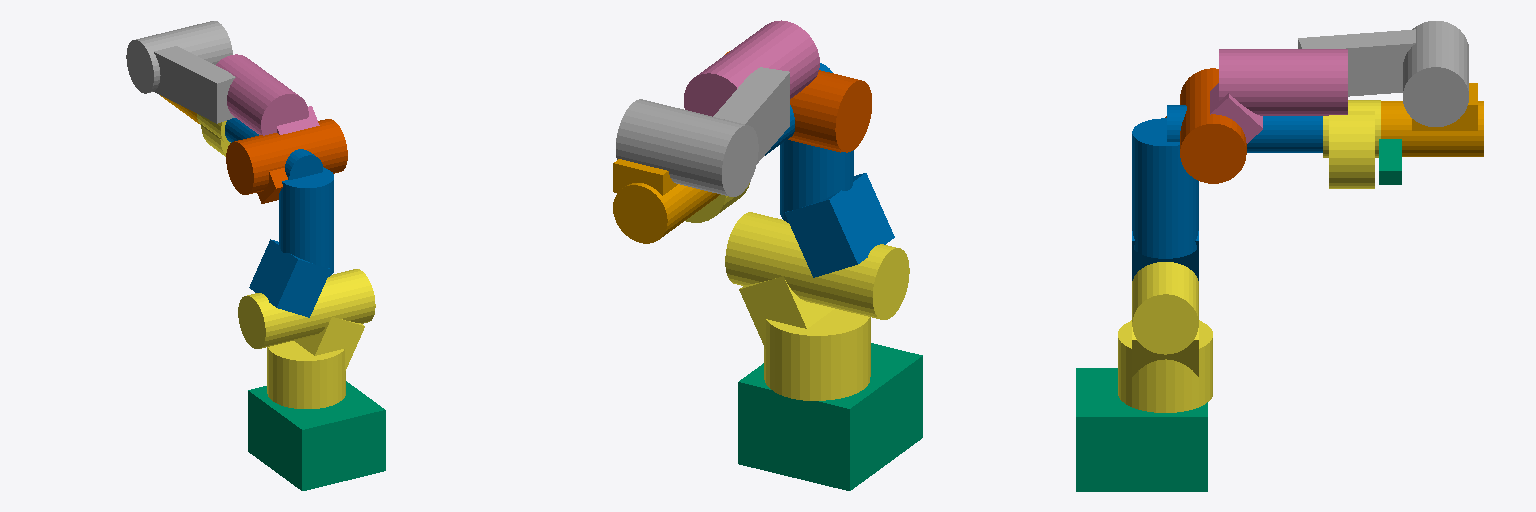
URDF robot description (franka):
<?xml version="1.0" encoding="utf-8"?>
<!-- =================================================================================== -->
<!-- |    This document was autogenerated by xacro from config/franka_only_collision_checking.urdf.xacro | -->
<!-- |    EDITING THIS FILE BY HAND IS NOT RECOMMENDED                                 | -->
<!-- =================================================================================== -->
<robot name="franka">
  <link name="base_link"/>
  <link name="base_aa"/>
  <joint name="base_aa_joint" type="fixed">
    <parent link="base_link"/>
    <child link="base_aa"/>
    <origin rpy="0 0 0" xyz="0.01905 -0.04134 0.0"/>
  </joint>
  <joint name="franka_joint_base_aa" type="fixed">
    <parent link="base_aa"/>
    <child link="franka_link0"/>
    <origin rpy="0 0 1.5708" xyz="0 0 0"/>
  </joint>
  <link name="franka_link0">
    <!-- <visual>
        <geometry>
          <mesh filename="meshes/collision/link0.obj"/>
        </geometry>
      </visual> -->
    <visual>
      <origin rpy="0 0 0" xyz="-0.041 0 0.0705"/>
      <geometry>
        <box size="0.227 0.2 0.141"/>
      </geometry>
    </visual>
  </link>
  <link name="franka_link1">
    <!-- <collision>
        <geometry>
          <mesh filename="meshes/collision/link1.obj"/>
        </geometry>
      </collision> -->
    <!-- <visual>
        <geometry>
          <mesh filename="meshes/collision/link1.obj"/>
        </geometry>
      </visual> -->
    <collision>
      <origin rpy="0 0 0" xyz="0 0 -0.137"/>
      <geometry>
        <!-- <cylinder length="0.112" radius="0.0575" /> -->
        <!-- no clamp on robot -->
        <cylinder length="0.112" radius="0.0825"/>
        <!-- clamp on robot -->
      </geometry>
    </collision>
    <visual>
      <origin rpy="0 0 0" xyz="0 0 -0.137"/>
      <geometry>
        <!-- <cylinder length="0.112" radius="0.0575" /> -->
        <!-- no clamp on robot -->
        <cylinder length="0.112" radius="0.0825"/>
        <!-- clamp on robot -->
      </geometry>
    </visual>
    <collision>
      <origin rpy="0.4799655 0 0" xyz="0 -0.0416 -0.0707"/>
      <geometry>
        <box size="0.115 0.09 0.112"/>
      </geometry>
    </collision>
    <visual>
      <origin rpy="0.4799655 0 0" xyz="0 -0.0416 -0.0707"/>
      <geometry>
        <box size="0.115 0.09 0.112"/>
      </geometry>
    </visual>
    <collision>
      <origin rpy="1.5708 0 0" xyz="0 0 0"/>
      <geometry>
        <cylinder length="0.264" radius="0.0575"/>
      </geometry>
    </collision>
    <visual>
      <origin rpy="1.5708 0 0" xyz="0 0 0"/>
      <geometry>
        <cylinder length="0.264" radius="0.0575"/>
      </geometry>
    </visual>
  </link>
  <joint name="franka_joint1" type="revolute">
    <safety_controller k_position="100.0" k_velocity="40.0" soft_lower_limit="-2.8973" soft_upper_limit="0.6"/>
    <origin rpy="0 0 0" xyz="0 0 0.333"/>
    <parent link="franka_link0"/>
    <child link="franka_link1"/>
    <axis xyz="0 0 1"/>
    <limit effort="87" lower="-2.8973" upper="2.8973" velocity="2.1750"/>
  </joint>
  <link name="franka_link2">
    <!-- <collision>
        <geometry>
          <cylinder radius="0.09" length="0.25"/>
           <mesh filename="meshes/collision/link2.obj"/> 
        </geometry>
      </collision> -->
    <!-- <visual>
        <geometry>
          <cylinder radius="0.09" length="0.25"/>
           <mesh filename="meshes/collision/link2.obj"/> 
        </geometry>
      </visual> -->
    <collision>
      <origin rpy="-1.090831 0 0" xyz="0 -0.0795 0.0401"/>
      <geometry>
        <box size="0.115 0.09 0.112"/>
      </geometry>
    </collision>
    <visual>
      <origin rpy="-1.090831 0 0" xyz="0 -0.0795 0.0401"/>
      <geometry>
        <box size="0.115 0.09 0.112"/>
      </geometry>
    </visual>
    <collision>
      <origin rpy="1.5708 0 0" xyz="0 -0.197 0"/>
      <geometry>
        <cylinder length="0.214" radius="0.0575"/>
      </geometry>
    </collision>
    <visual>
      <origin rpy="1.5708 0 0" xyz="0 -0.197 0"/>
      <geometry>
        <cylinder length="0.214" radius="0.0575"/>
      </geometry>
    </visual>
  </link>
  <joint name="franka_joint2" type="revolute">
    <safety_controller k_position="100.0" k_velocity="40.0" soft_lower_limit="-1.7628" soft_upper_limit="0.6"/>
    <origin rpy="-1.57079632679 0 0" xyz="0 0 0"/>
    <parent link="franka_link1"/>
    <child link="franka_link2"/>
    <axis xyz="0 0 1"/>
    <limit effort="87" lower="-1.7628" upper="1.7628" velocity="2.1750"/>
  </joint>
  <link name="franka_link3">
    <!-- <collision>
        <geometry>
          <mesh filename="meshes/collision/link3.obj"/>
        </geometry>
      </collision> -->
    <!-- <visual>
        <geometry>
          <mesh filename="meshes/collision/link3.obj"/>
        </geometry>
      </visual> -->
    <collision>
      <origin rpy="0 0.785 0" xyz="0.045 0.028 -0.0333"/>
      <geometry>
        <box size="0.085 0.095 0.05"/>
      </geometry>
    </collision>
    <visual>
      <origin rpy="0 0.785 0" xyz="0.045 0.028 -0.0333"/>
      <geometry>
        <box size="0.085 0.095 0.05"/>
      </geometry>
    </visual>
    <collision>
      <origin rpy="1.5708 0 0" xyz="0.0825 0 0"/>
      <geometry>
        <cylinder length="0.226" radius="0.0575"/>
      </geometry>
    </collision>
    <visual>
      <origin rpy="1.5708 0 0" xyz="0.0825 0 0"/>
      <geometry>
        <cylinder length="0.226" radius="0.0575"/>
      </geometry>
    </visual>
  </link>
  <joint name="franka_joint3" type="revolute">
    <safety_controller k_position="100.0" k_velocity="40.0" soft_lower_limit="-2.8973" soft_upper_limit="2.8973"/>
    <origin rpy="1.57079632679 0 0" xyz="0 -0.316 0"/>
    <parent link="franka_link2"/>
    <child link="franka_link3"/>
    <axis xyz="0 0 1"/>
    <limit effort="87" lower="-2.8973" upper="2.8973" velocity="2.1750"/>
  </joint>
  <link name="franka_link4">
    <!-- <collision>
        <geometry>
          <mesh filename="meshes/collision/link4.obj"/>
        </geometry>
      </collision> -->
    <!-- <visual>
        <geometry>
          <mesh filename="meshes/collision/link4.obj"/>
        </geometry>
      </visual> -->
    <collision>
      <origin rpy="0 0 0.785" xyz="-0.0417 0.0388 0.0275"/>
      <geometry>
        <box size="0.085 0.05 0.095"/>
      </geometry>
    </collision>
    <visual>
      <origin rpy="0 0 0.785" xyz="-0.0417 0.0388 0.0275"/>
      <geometry>
        <box size="0.085 0.05 0.095"/>
      </geometry>
    </visual>
    <collision>
      <origin rpy="1.5708 0 0" xyz="-0.0825 0.121 0"/>
      <geometry>
        <cylinder length="0.224" radius="0.0575"/>
      </geometry>
    </collision>
    <visual>
      <origin rpy="1.5708 0 0" xyz="-0.0825 0.121 0"/>
      <geometry>
        <cylinder length="0.224" radius="0.0575"/>
      </geometry>
    </visual>
  </link>
  <joint name="franka_joint4" type="revolute">
    <safety_controller k_position="100.0" k_velocity="40.0" soft_lower_limit="-3.0718" soft_upper_limit="-0.0698"/>
    <origin rpy="1.57079632679 0 0" xyz="0.0825 0 0"/>
    <parent link="franka_link3"/>
    <child link="franka_link4"/>
    <axis xyz="0 0 1"/>
    <limit effort="87" lower="-3.0718" upper="-0.0698" velocity="2.1750"/>
  </joint>
  <link name="franka_link5">
    <!-- <collision>
        <geometry>
          <mesh filename="meshes/collision/link5.obj"/>
        </geometry>
      </collision> -->
    <!-- <visual>
        <geometry>
          <mesh filename="meshes/collision/link5.obj"/>
        </geometry>
      </visual> -->
    <collision>
      <origin rpy="-0.174533 0 0" xyz="0 0.075 -0.125"/>
      <geometry>
        <box size="0.092 0.056 0.22"/>
      </geometry>
    </collision>
    <visual>
      <origin rpy="-0.174533 0 0" xyz="0 0.075 -0.125"/>
      <geometry>
        <box size="0.092 0.056 0.22"/>
      </geometry>
    </visual>
    <collision>
      <origin rpy="1.5708 0 0" xyz="0 0.036 0"/>
      <geometry>
        <cylinder length="0.19" radius="0.0575"/>
      </geometry>
    </collision>
    <visual>
      <origin rpy="1.5708 0 0" xyz="0 0.036 0"/>
      <geometry>
        <cylinder length="0.19" radius="0.0575"/>
      </geometry>
    </visual>
  </link>
  <joint name="franka_joint5" type="revolute">
    <safety_controller k_position="100.0" k_velocity="40.0" soft_lower_limit="-2.8973" soft_upper_limit="2.8973"/>
    <origin rpy="-1.57079632679 0 0" xyz="-0.0825 0.384 0"/>
    <parent link="franka_link4"/>
    <child link="franka_link5"/>
    <axis xyz="0 0 1"/>
    <limit effort="12" lower="-2.8973" upper="2.8973" velocity="2.6100"/>
  </joint>
  <link name="franka_link6">
    <!-- <collision>
        <geometry>
          <mesh filename="meshes/collision/link6.obj"/>
        </geometry>
      </collision> -->
    <!-- <visual>
        <geometry>
          <mesh filename="meshes/collision/link6.obj"/>
        </geometry>
      </visual> -->
    <collision>
      <origin rpy="1.5708 0 0" xyz="0.088 -0.012 0"/>
      <geometry>
        <cylinder length="0.19" radius="0.049"/>
      </geometry>
    </collision>
    <visual>
      <origin rpy="1.5708 0 0" xyz="0.088 -0.012 0"/>
      <geometry>
        <cylinder length="0.19" radius="0.049"/>
      </geometry>
    </visual>
    <collision>
      <origin rpy="0 0 0" xyz="0.042 0.0154 0.01"/>
      <geometry>
        <box size="0.05 0.115 0.088"/>
      </geometry>
    </collision>
    <visual>
      <origin rpy="0 0 0" xyz="0.042 0.0154 0.01"/>
      <geometry>
        <box size="0.05 0.115 0.088"/>
      </geometry>
    </visual>
  </link>
  <joint name="franka_joint6" type="revolute">
    <safety_controller k_position="100.0" k_velocity="40.0" soft_lower_limit="-0.0175" soft_upper_limit="3.7525"/>
    <origin rpy="1.57079632679 0 0" xyz="0 0 0"/>
    <parent link="franka_link5"/>
    <child link="franka_link6"/>
    <axis xyz="0 0 1"/>
    <limit effort="12" lower="-0.0175" upper="3.7525" velocity="2.6100"/>
  </joint>
  <link name="franka_link7">
    <!-- <collision>
        <geometry>
          <mesh filename="meshes/collision/link7.obj"/>
        </geometry>
      </collision> -->
    <!-- <visual>
        <geometry>
          <mesh filename="meshes/collision/link7.obj"/>
        </geometry>
      </visual> -->
  </link>
  <joint name="franka_joint7" type="revolute">
    <safety_controller k_position="100.0" k_velocity="40.0" soft_lower_limit="-2.8973" soft_upper_limit="2.8973"/>
    <origin rpy="1.57079632679 0 0" xyz="0.088 0 0"/>
    <parent link="franka_link6"/>
    <child link="franka_link7"/>
    <axis xyz="0 0 1"/>
    <limit effort="12" lower="-2.8973" upper="2.8973" velocity="2.6100"/>
  </joint>
  <link name="franka_link8">
    <collision>
      <origin rpy="0 0 0.785398" xyz="0.0424 0.0424 -0.028"/>
      <geometry>
        <box size="0.06 0.075 0.04"/>
      </geometry>
    </collision>
    <visual>
      <origin rpy="0 0 0.785398" xyz="0.0424 0.0424 -0.028"/>
      <geometry>
        <box size="0.06 0.075 0.04"/>
      </geometry>
    </visual>
  </link>
  <joint name="franka_joint8" type="fixed">
    <origin rpy="0 0 0" xyz="0 0 0.107"/>
    <parent link="franka_link7"/>
    <child link="franka_link8"/>
    <axis xyz="0 0 0"/>
  </joint>
  <joint name="franka_head_to_tool_joint" type="fixed">
    <parent link="franka_head_js"/>
    <child link="tool"/>
    <origin rpy="0 0 0" xyz="0.0 0 0.075"/>
  </joint>
  <link name="franka_head_js">
    <!-- concentric cyl -->
    <collision>
      <origin rpy="0 0 0" xyz="0 0 0.0308"/>
      <geometry>
        <cylinder length="0.1" radius="0.05"/>
      </geometry>
    </collision>
    <visual>
      <origin rpy="0 0 0" xyz="0 0 0.0308"/>
      <geometry>
        <cylinder length="0.1" radius="0.05"/>
      </geometry>
    </visual>
    <!-- offaxis cyl -->
    <collision>
      <origin rpy="0 0 0" xyz="0.035 0 0.0308"/>
      <geometry>
        <cylinder length="0.08" radius="0.07"/>
      </geometry>
    </collision>
    <visual>
      <origin rpy="0 0 0" xyz="0.035 0 0.0308"/>
      <geometry>
        <cylinder length="0.08" radius="0.07"/>
      </geometry>
    </visual>
  </link>
  <joint name="franka_link8_to_franka_head_js" type="fixed">
    <parent link="franka_link8"/>
    <child link="franka_head_js"/>
    <origin rpy="0 0 0.785398" xyz="0.0 0.000 0.0075"/>
  </joint>
  <link name="tool">
    <collision>
      <origin rpy="0 0 0" xyz="0.0 0.0 0.1375"/>
      <geometry>
        <cylinder length="0.275" radius="0.041"/>
      </geometry>
    </collision>
    <visual>
      <origin rpy="0 0 0" xyz="0.0 0.0 0.1375"/>
      <geometry>
        <cylinder length="0.275" radius="0.041"/>
      </geometry>
    </visual>
  </link>
  <link name="tool_tip"/>
  <joint name="tool_joint_to_tool_tip" type="fixed">
    <parent link="tool"/>
    <child link="tool_tip"/>
    <origin rpy="0 0 0" xyz="0.0 0 0.275"/>
  </joint>
  <collision_filter_group name="base">
    <member link="franka_link0"/>
    <member link="franka_link1"/>
    <member link="franka_link2"/>
    <member link="franka_link3"/>
    <member link="franka_link4"/>
    <ignored_collision_filter_group collision_filter_group="base"/>
  </collision_filter_group>
  <collision_filter_group name="franka">
    <member link="franka_link3"/>
    <member link="franka_link4"/>
    <member link="franka_link5"/>
    <ignored_collision_filter_group collision_filter_group="franka"/>
  </collision_filter_group>
  <collision_filter_group name="end_effectors">
    <member link="franka_link5"/>
    <member link="franka_link6"/>
    <member link="franka_link7"/>
    <member link="franka_link8"/>
    <member link="franka_head_js"/>
    <member link="tool"/>
    <ignored_collision_filter_group collision_filter_group="end_effectors"/>
  </collision_filter_group>
</robot>

<!-- The collision for links ['franka_link0'] are removed in this URDF    -->

--- Facts derived from the render (not from the file) ---
3 views of the same robot in one strip: view 1: azimuth 30°, elevation 25°; view 2: azimuth 150°, elevation 25°; view 3: azimuth 270°, elevation 25° (orthographic).
Model franka with 14 links and 13 joints (7 revolute, 6 fixed), rooted at base_link, posed all joints at 0 but 1 set to mid-range because 0 is outside their limits (franka_joint4 = -1.57).
Links seen in each view (by area): view 1: franka_link1, franka_link0, franka_link2, franka_link5, franka_link3, franka_link4, tool, franka_head_js; view 2: franka_link1, franka_link0, franka_link5, franka_link2, franka_link4, franka_link6, franka_link3, franka_head_js; view 3: franka_link0, franka_link1, franka_link5, franka_link4, franka_link2, franka_link3, franka_head_js, franka_link6, tool, franka_link8.
Link boxes in pixels (x1,y1,x2,y2): franka_link1: (238, 269, 375, 408); franka_link0: (248, 381, 385, 490); franka_link2: (249, 167, 333, 317); franka_link5: (126, 21, 235, 123); franka_link3: (226, 119, 347, 203); franka_link4: (216, 54, 319, 135); tool: (225, 118, 322, 179); franka_head_js: (197, 114, 230, 156); franka_link1: (725, 212, 909, 400); franka_link0: (738, 343, 922, 490); franka_link5: (616, 67, 789, 196); franka_link2: (780, 139, 894, 277); franka_link4: (684, 20, 819, 116); franka_link6: (613, 159, 719, 243); franka_link3: (725, 51, 871, 152); franka_head_js: (685, 183, 749, 222); franka_link0: (1076, 368, 1207, 491); franka_link1: (1118, 262, 1212, 412); franka_link5: (1298, 21, 1468, 126); franka_link4: (1210, 49, 1347, 143); franka_link2: (1132, 118, 1198, 280); franka_link3: (1165, 68, 1246, 183); franka_head_js: (1323, 100, 1380, 188); franka_link6: (1381, 83, 1483, 156); tool: (1167, 105, 1322, 152); franka_link8: (1379, 139, 1401, 184).
Size in the robot's own frame: 0.264 by 0.704 by 0.789 metres.
Geometry: primitives only (box / cylinder / sphere), no mesh files.
